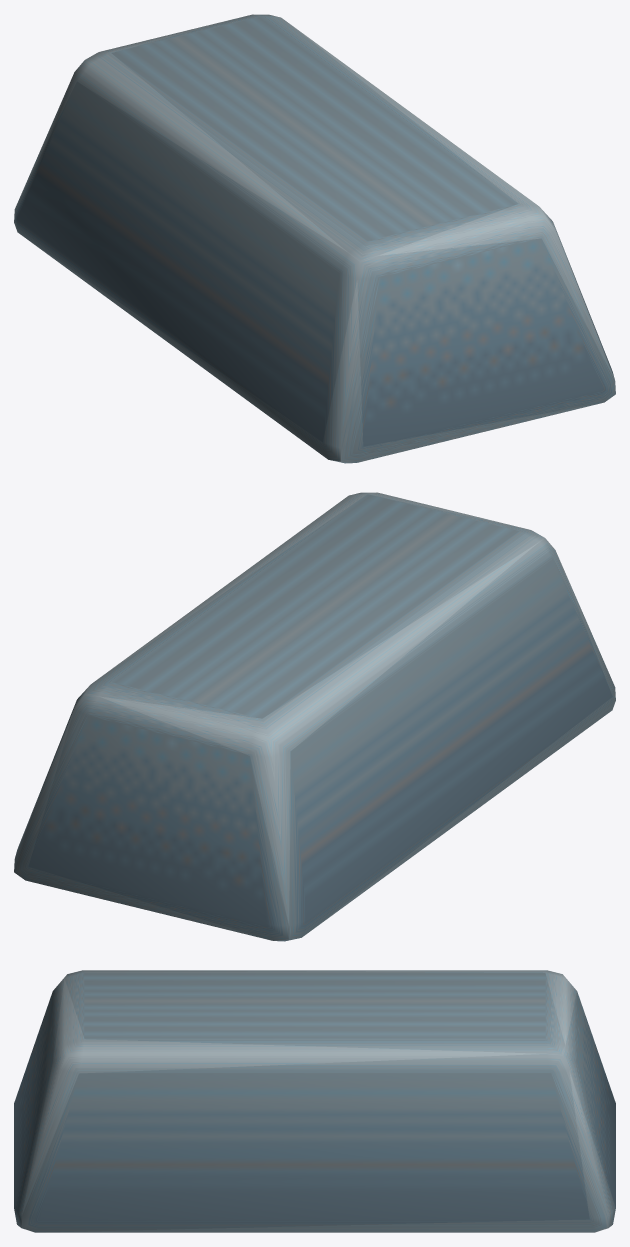
The model's file is Iron_Bar.gltf.
3 renders of one model, top to bottom at view 1: azimuth 30°, elevation 25°; view 2: azimuth 150°, elevation 25°; view 3: azimuth 270°, elevation 25°, orthographic. The views are drawn at different scales.
Visible parts, largest first — view 1: Iron_Bar; view 2: Iron_Bar; view 3: Iron_Bar.
Boxes of the visible parts, box(x1,y1,x2,y2) form: Iron_Bar: box(14, 14, 615, 463); Iron_Bar: box(14, 492, 615, 941); Iron_Bar: box(14, 970, 615, 1232).
Size of the model in its own units: 0.4 by 0.25 by 0.8.
1 material, 1 textured.
